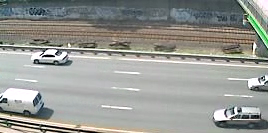car: (209, 103, 263, 130), (1, 86, 47, 117), (29, 48, 73, 66), (246, 74, 268, 92)
